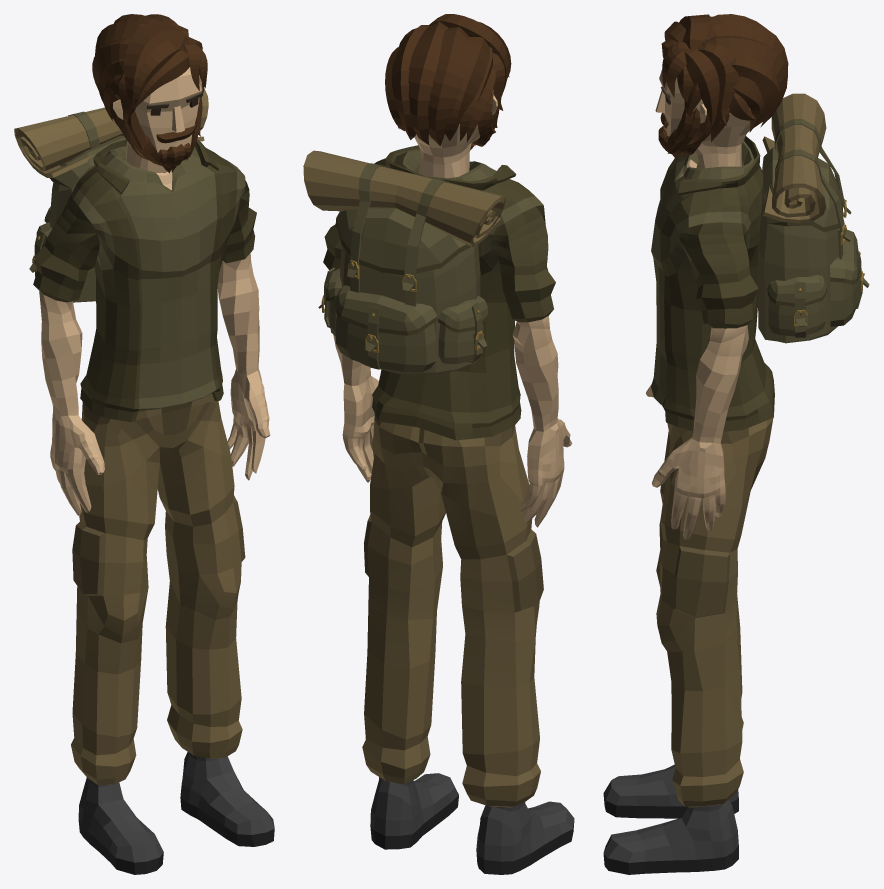
The model's file is adventurer-man.glb.
3 views of the same model, side by side, from view 1: azimuth 30°, elevation 25°; view 2: azimuth 150°, elevation 25°; view 3: azimuth 270°, elevation 25° (orthographic). The views are drawn at different scales.
Visible parts, largest first — view 1: Adventurer_Body, Adventurer_Legs, Adventurer_Head, Adventurer_Feet, Backpack; view 2: Adventurer_Legs, Backpack, Adventurer_Body, Adventurer_Head, Adventurer_Feet; view 3: Adventurer_Body, Adventurer_Legs, Backpack, Adventurer_Head, Adventurer_Feet.
Part boxes in pixels (x1,y1,x2,y2): Adventurer_Body: [33, 139, 270, 515]; Adventurer_Legs: [71, 393, 245, 785]; Adventurer_Head: [92, 14, 207, 173]; Adventurer_Feet: [78, 752, 274, 874]; Backpack: [14, 88, 208, 302]; Adventurer_Legs: [362, 414, 543, 807]; Backpack: [303, 150, 505, 375]; Adventurer_Body: [323, 145, 572, 527]; Adventurer_Head: [385, 14, 511, 178]; Adventurer_Feet: [370, 773, 574, 874]; Adventurer_Body: [646, 136, 774, 539]; Adventurer_Legs: [656, 418, 773, 807]; Backpack: [757, 93, 869, 343]; Adventurer_Head: [655, 14, 788, 168]; Adventurer_Feet: [603, 764, 738, 874].
Bounding box in the file's own units: 0.5252 × 1.85 × 0.5461.
